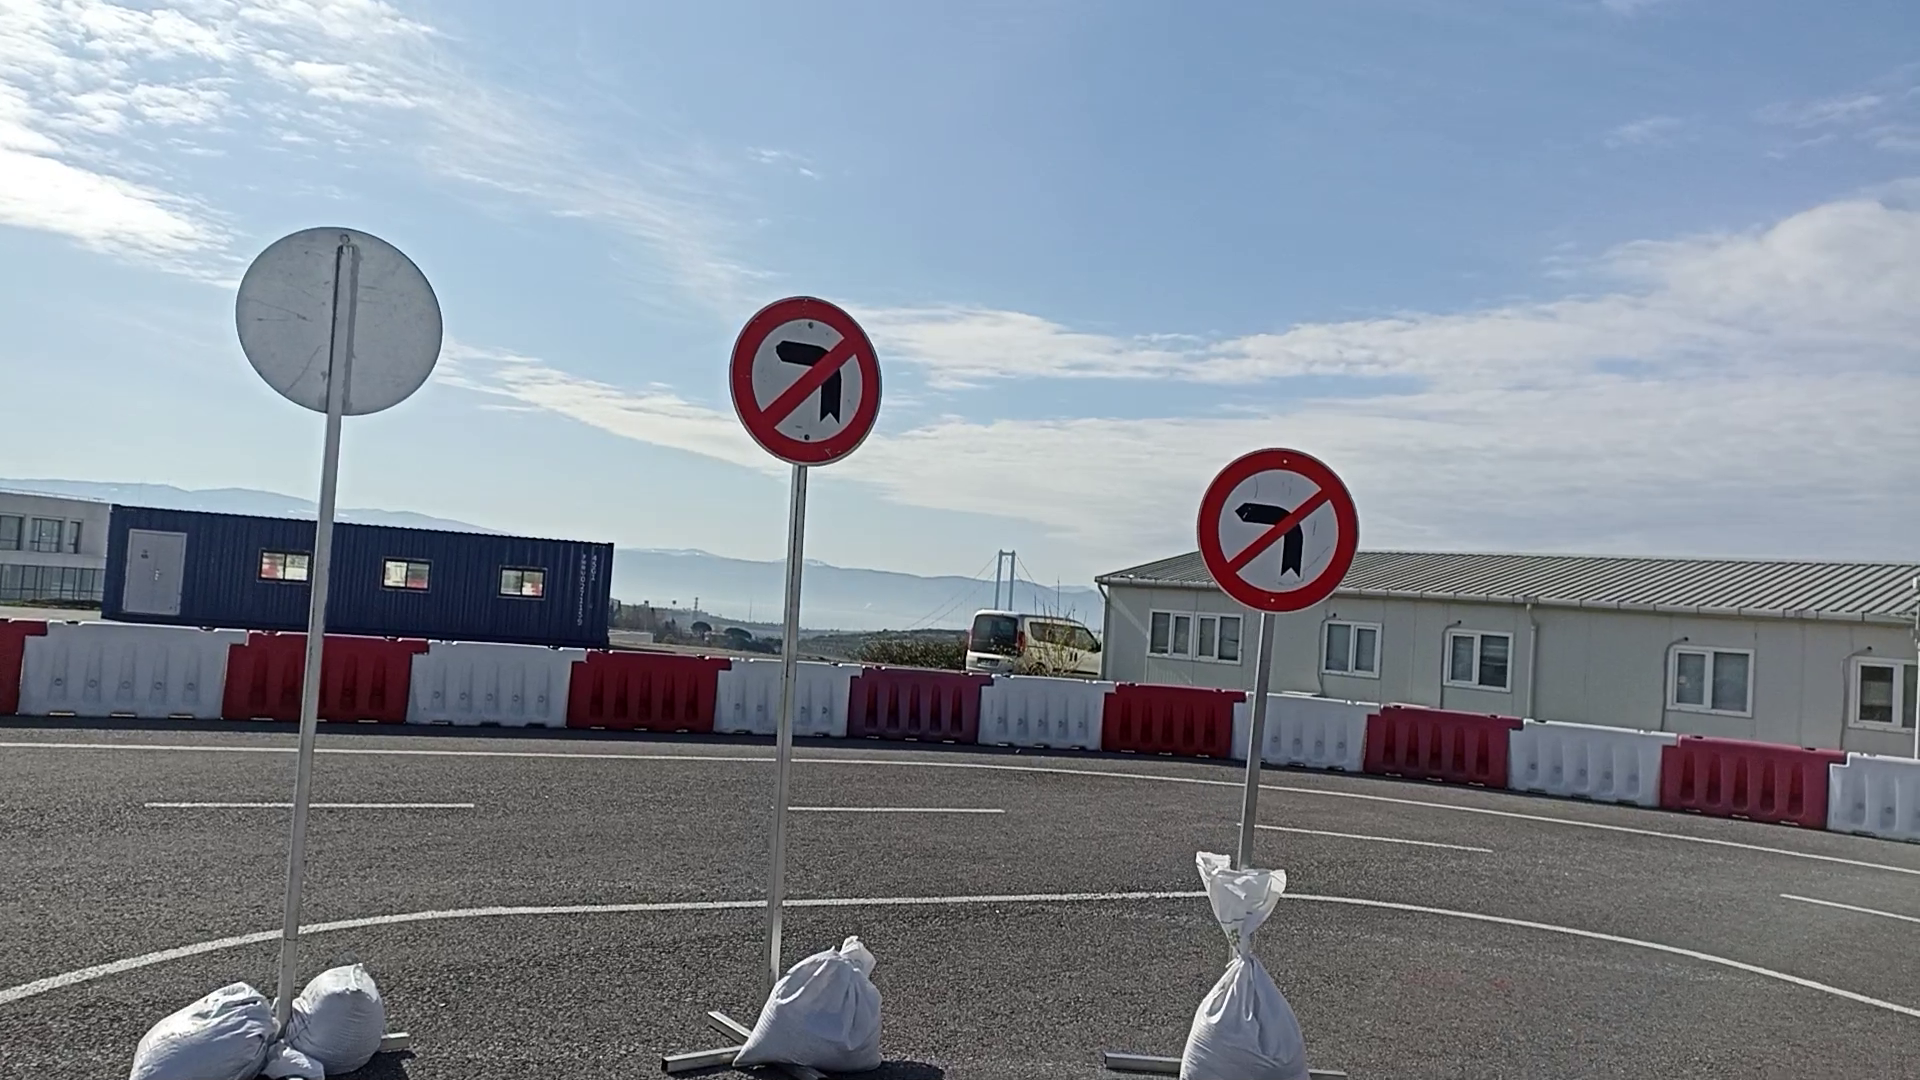noleft: (1193, 447, 1364, 616), (727, 293, 884, 468)
